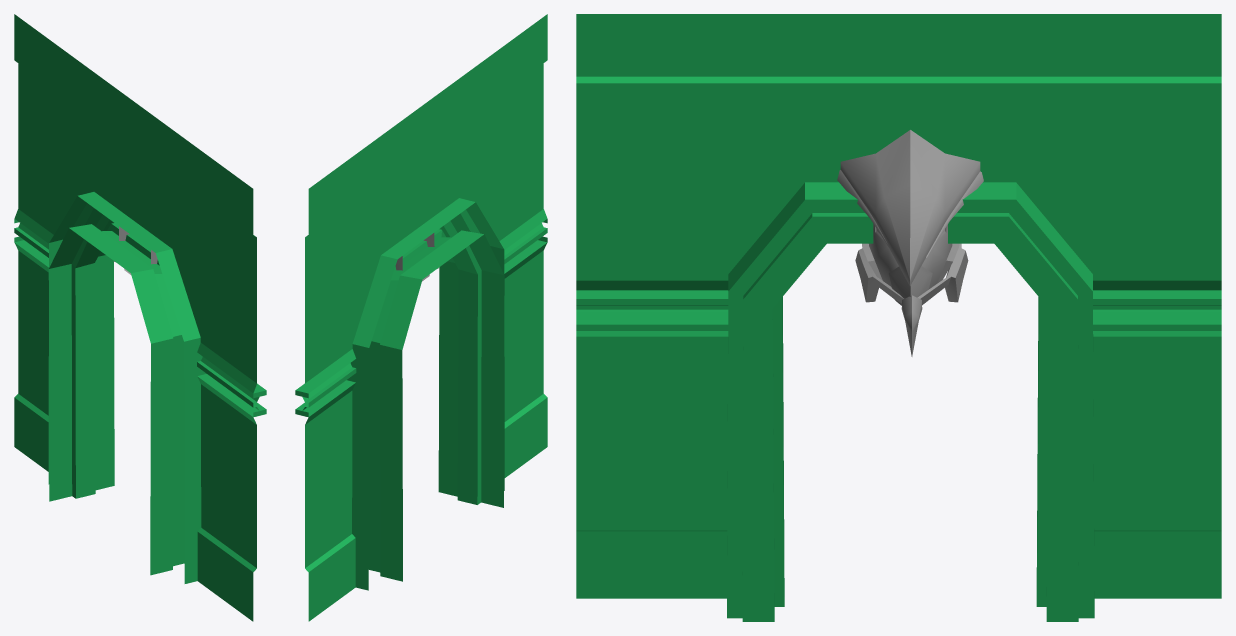
Rendered from Wall_Plastor_Window04.FBX.
The picture shows the model from 3 angles, left to right: view 1: azimuth 30°, elevation 25°; view 2: azimuth 150°, elevation 25°; view 3: azimuth 270°, elevation 25°; orthographic projection. The views are drawn at different scales.
Parts seen in each view (by area): view 1: grim_head; view 2: grim_head; view 3: grim_head.
Boxes of the visible parts, bbox=[...] form: grim_head: bbox=[14, 14, 266, 621]; grim_head: bbox=[295, 14, 547, 621]; grim_head: bbox=[576, 14, 1221, 621].
Bounding box in the file's own units: 98.28 × 315 × 315.
